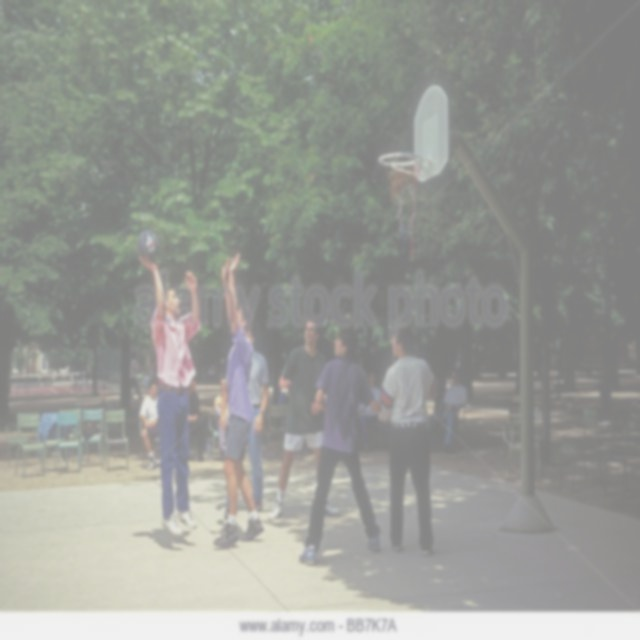pessoa: (295, 321, 385, 568), (134, 248, 203, 542), (208, 248, 266, 552), (375, 316, 445, 561), (265, 318, 343, 522), (222, 322, 270, 521), (426, 367, 469, 455), (357, 368, 382, 453), (138, 382, 161, 474), (186, 378, 206, 464), (213, 373, 231, 463), (377, 373, 395, 456), (126, 354, 157, 396)
